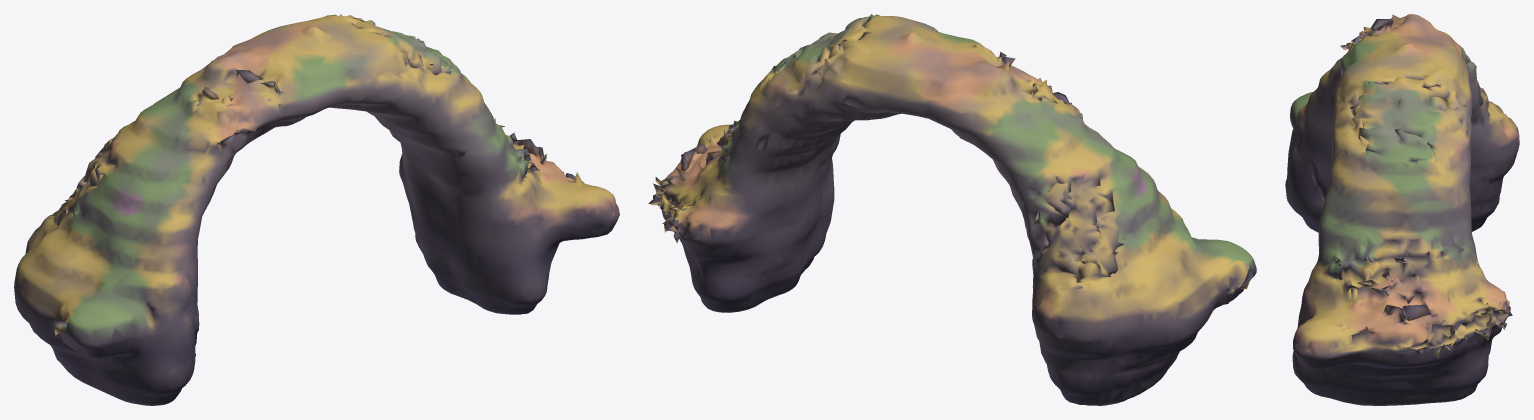
The model's file is Arch_Hero.glb.
3 renders of one model, left to right at view 1: azimuth 30°, elevation 25°; view 2: azimuth 150°, elevation 25°; view 3: azimuth 270°, elevation 25°, orthographic. The views are drawn at different scales.
Parts seen in each view (by area): view 1: Arch_Hero; view 2: Arch_Hero; view 3: Arch_Hero.
Boxes of the visible parts, x1=… form: Arch_Hero: x1=14, y1=14, x2=619, y2=405; Arch_Hero: x1=648, y1=14, x2=1256, y2=405; Arch_Hero: x1=1285, y1=14, x2=1519, y2=405.
Size of the model in its own units: 33.67 by 17.29 by 13.03.
